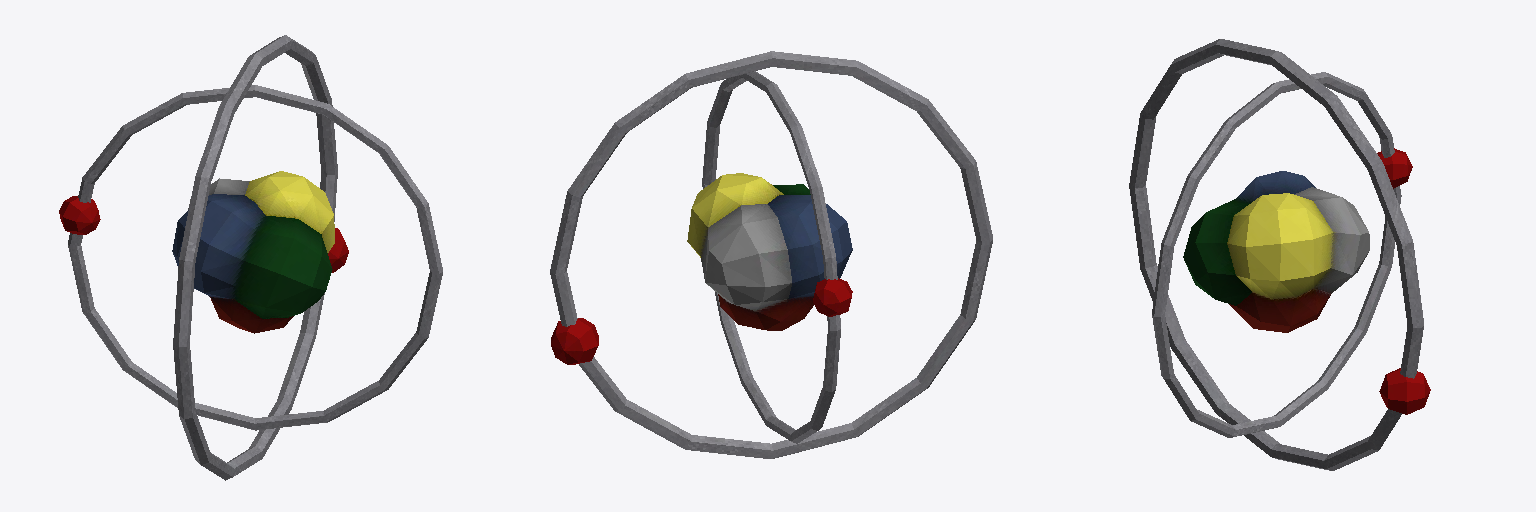
3 renders of one model, left to right at view 1: azimuth 30°, elevation 25°; view 2: azimuth 150°, elevation 25°; view 3: azimuth 270°, elevation 25°, orthographic.
Visible parts, largest first — view 1: unwrapped2, Object09, Object10, Object11, Object12; view 2: Object09, unwrapped2, Object10, Object12, Object11; view 3: unwrapped2, Object09, Object10, Object12, Object11.
Boxes of the visible parts, box(x1,y1,x2,y2) form: unwrapped2: box(172, 171, 334, 333); Object09: box(173, 35, 337, 480); Object10: box(68, 85, 442, 430); Object11: box(59, 196, 100, 234); Object12: box(328, 228, 348, 272); Object09: box(550, 51, 992, 458); unwrapped2: box(687, 173, 852, 330); Object10: box(702, 71, 840, 443); Object12: box(551, 318, 598, 364); Object11: box(813, 278, 852, 316); unwrapped2: box(1183, 171, 1369, 332); Object09: box(1129, 39, 1423, 470); Object10: box(1152, 72, 1401, 437); Object12: box(1379, 368, 1430, 414); Object11: box(1377, 148, 1412, 188).
Bounding box in the file's own units: 27.65 × 35.32 × 23.66.
Materials: 1 (1 with a texture image).